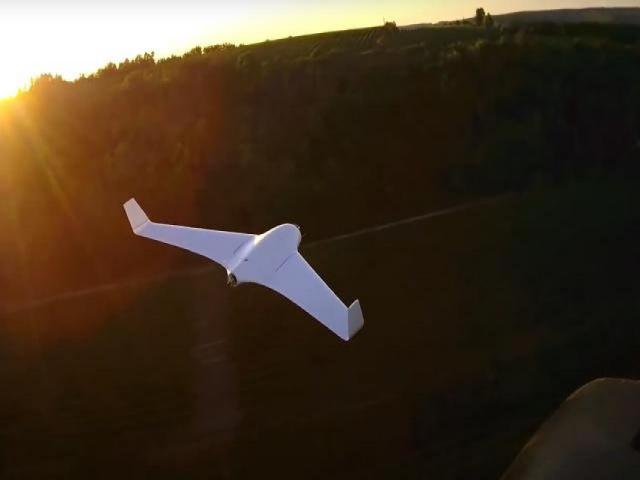iha: (119, 192, 376, 344)
